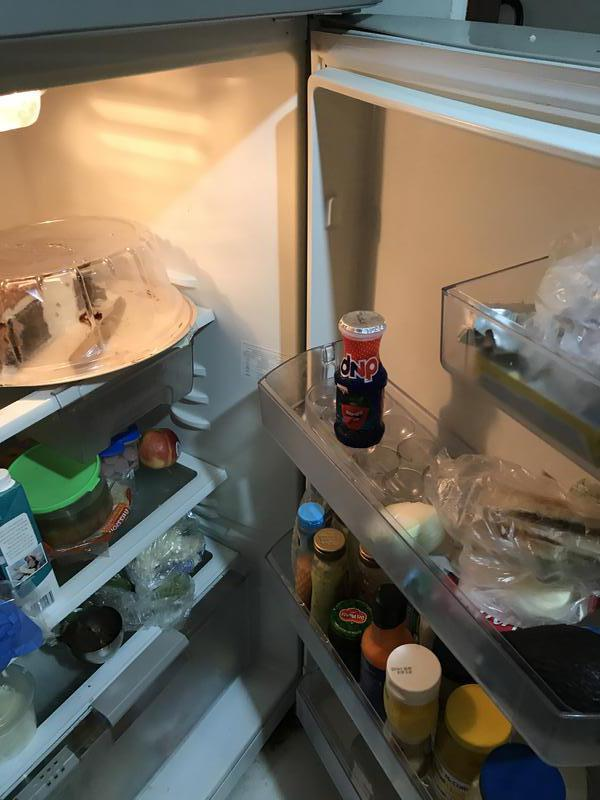danup: (334, 312, 389, 449)
